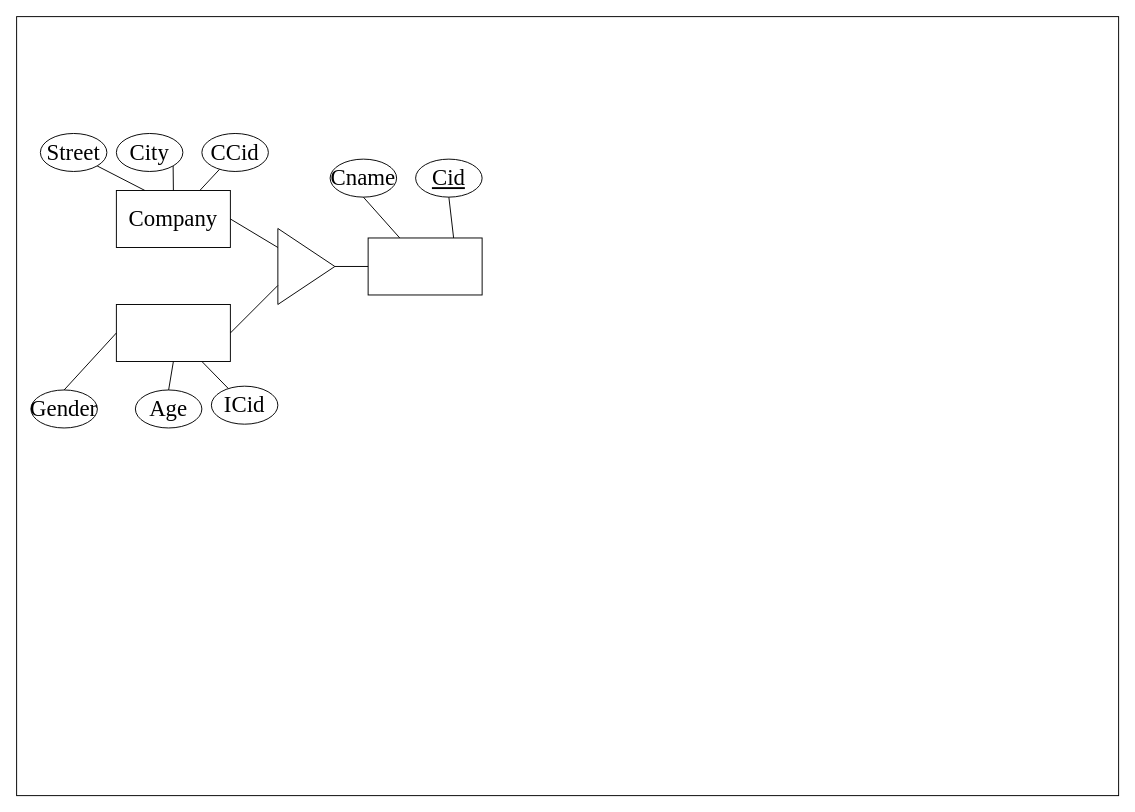
Image size: 1135x812. Some labels were removed from this diagram. Here are the shapes that lost their labels. From the top down, the centre of each, then its label:
At (306,266): "ISA".
At (424,266): "Customer".
At (172,332): "Individual".
